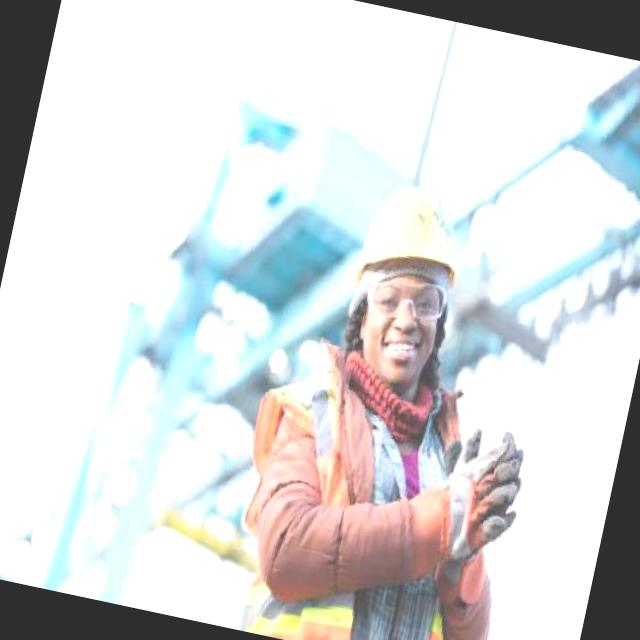vest: (212, 354, 510, 640)
